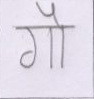au_matra: (41, 1, 70, 69)
